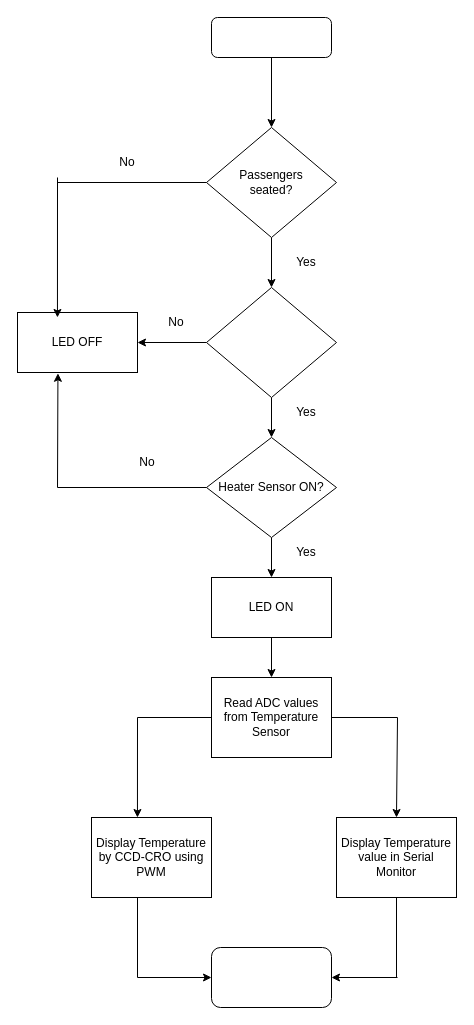
Image size: 474x1025. Some labels were removed from this diagram. The shapes that lost their labels are listed below. From the top down, each one's box as (x1, y1, x2, y2) in pixels, then its label:
(210, 16, 332, 58): Start
(206, 286, 336, 398): Button Sensor ON?
(210, 946, 332, 1008): Stop
